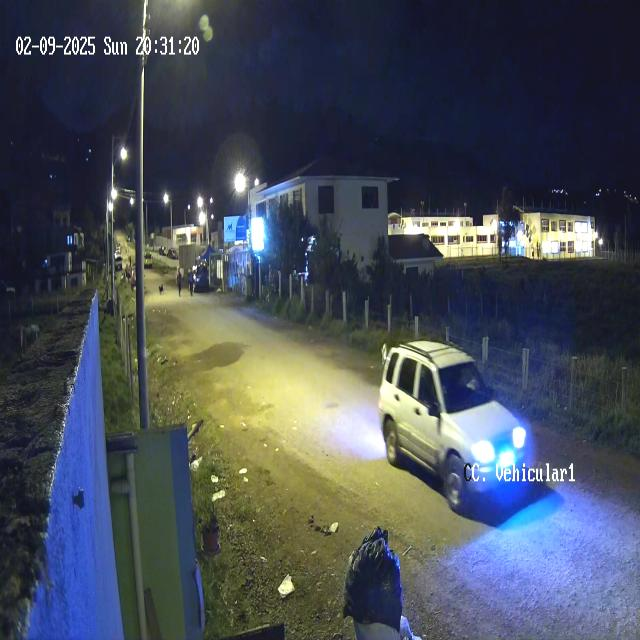SUV: (380, 338, 528, 502)
